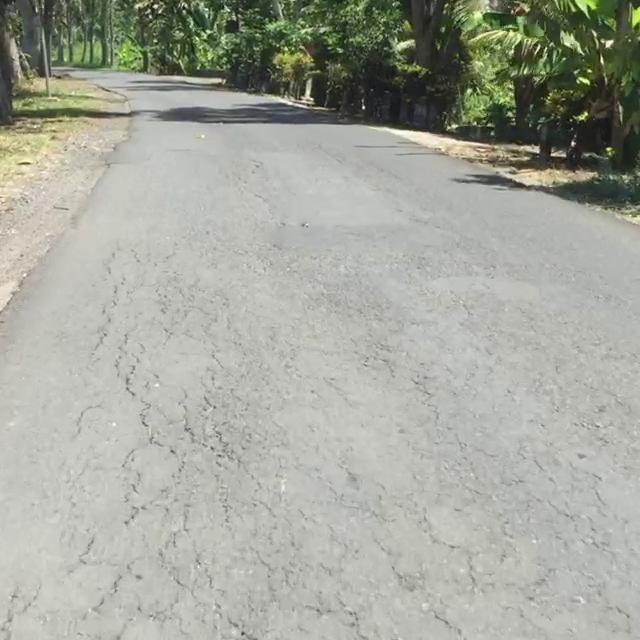retak_kulit_buaya: (67, 244, 176, 561), (85, 527, 270, 640), (140, 373, 269, 500)
